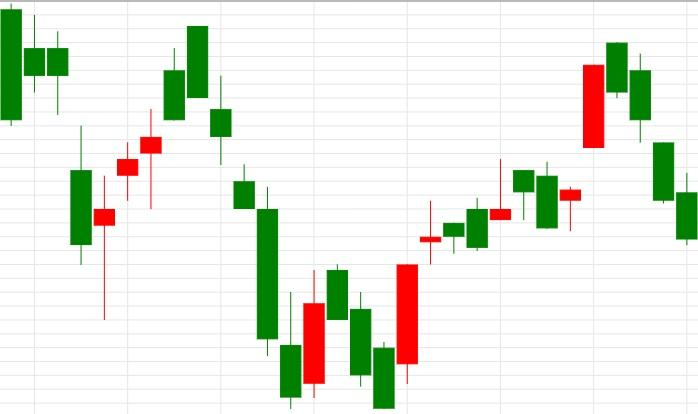three_black_crows_fall: (93, 26, 255, 320)
three_white_soldiers_rise: (0, 4, 162, 320)
